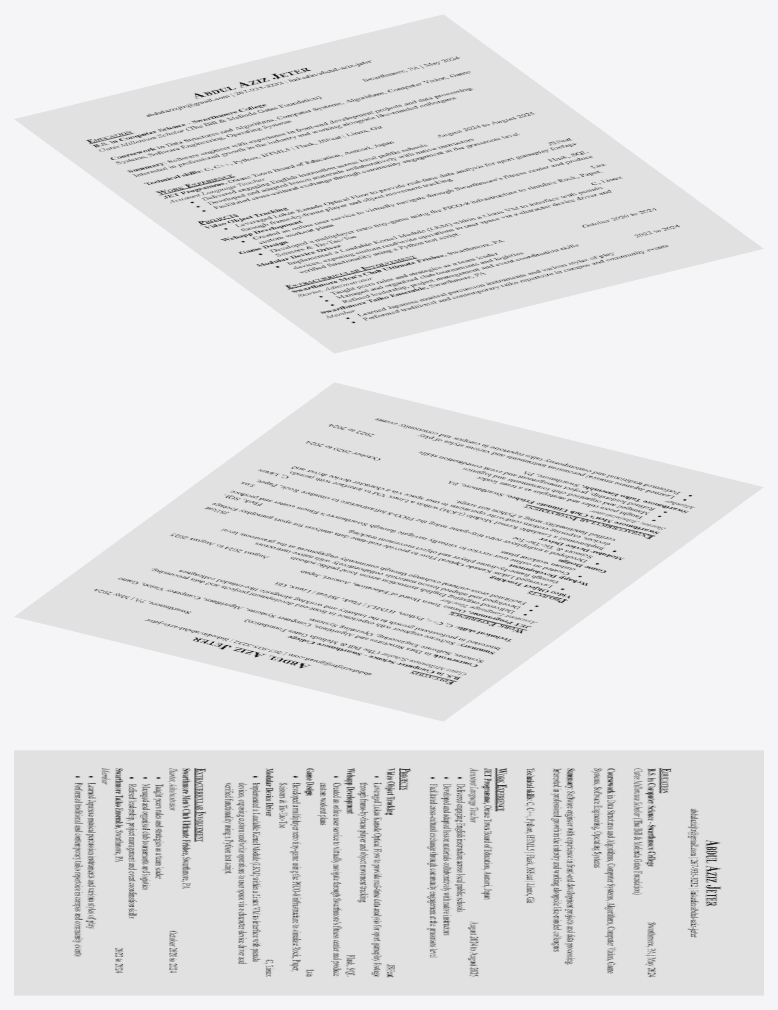
The model's file is resume.glb.
3 views of the same model, one above another, from view 1: azimuth 30°, elevation 25°; view 2: azimuth 150°, elevation 25°; view 3: azimuth 270°, elevation 25° (orthographic). The views are drawn at different scales.
Visible parts, largest first — view 1: Plane; view 2: Plane; view 3: Plane.
Boxes of the visible parts, bbox=[...] form: Plane: bbox=[14, 14, 763, 353]; Plane: bbox=[14, 382, 763, 721]; Plane: bbox=[14, 750, 763, 995].
Bounding box in the file's own units: 216 × 0 × 279.
Materials: 1 (1 with a texture image).
